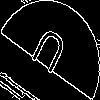U: (25, 25, 70, 84)
